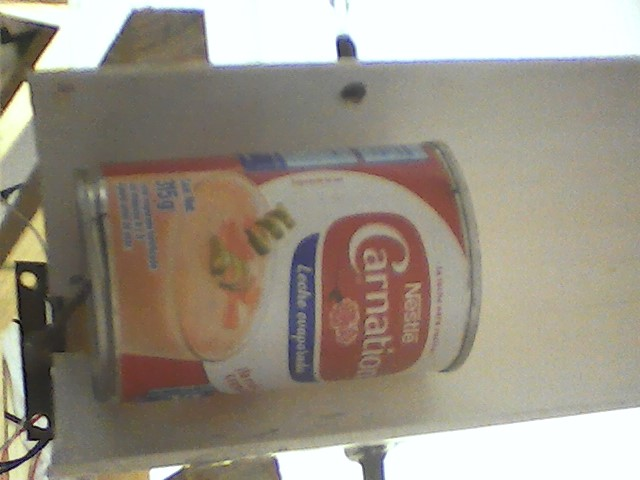lata: (58, 133, 491, 413)
